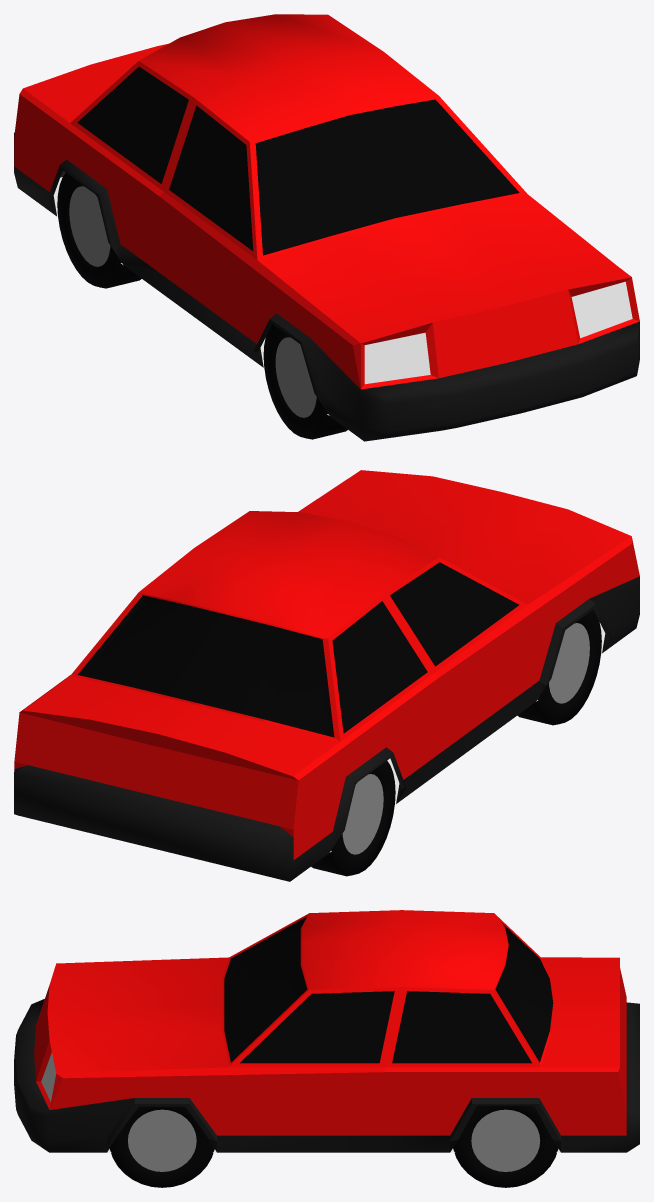
The model's file is Car.obj.
3 views of the same model, one above another, from view 1: azimuth 30°, elevation 25°; view 2: azimuth 150°, elevation 25°; view 3: azimuth 270°, elevation 25° (orthographic). The views are drawn at different scales.
Parts seen in each view (by area): view 1: Car; view 2: Car; view 3: Car.
Part boxes in pixels (box(x1,y1,x2,y2)): Car: box(14, 14, 639, 441); Car: box(14, 470, 639, 881); Car: box(14, 910, 639, 1187).
Size of the model in its own units: 2.1 by 1.59 by 4.66.
